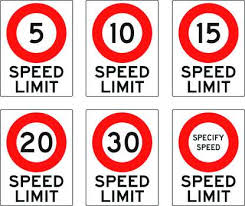sp10: (93, 5, 156, 60)
sp15: (177, 4, 244, 67)
sp20: (6, 113, 75, 169)
sp30: (95, 115, 158, 169)
sp5: (5, 6, 74, 65)
